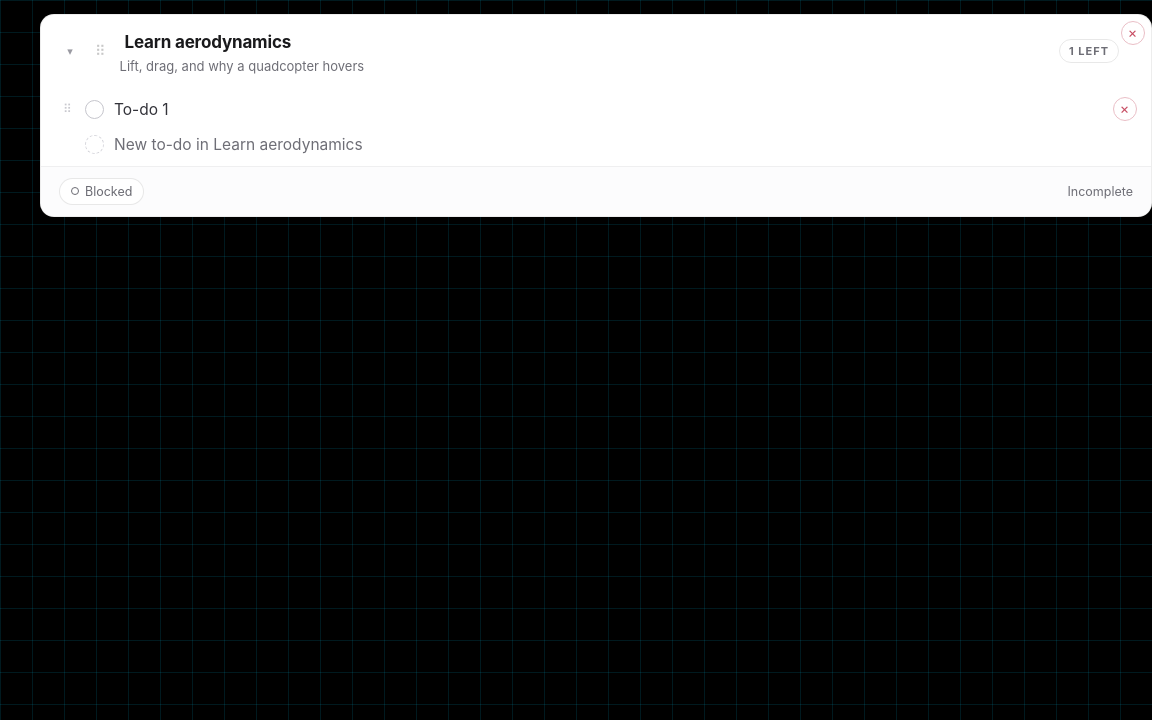
Test: SequenceCard › leaves the sequence alone when the confirmation is cancelled
Click the button named "Delete sequence “Learn aerodynamics”": (1133,33) [1121,21,1145,45]
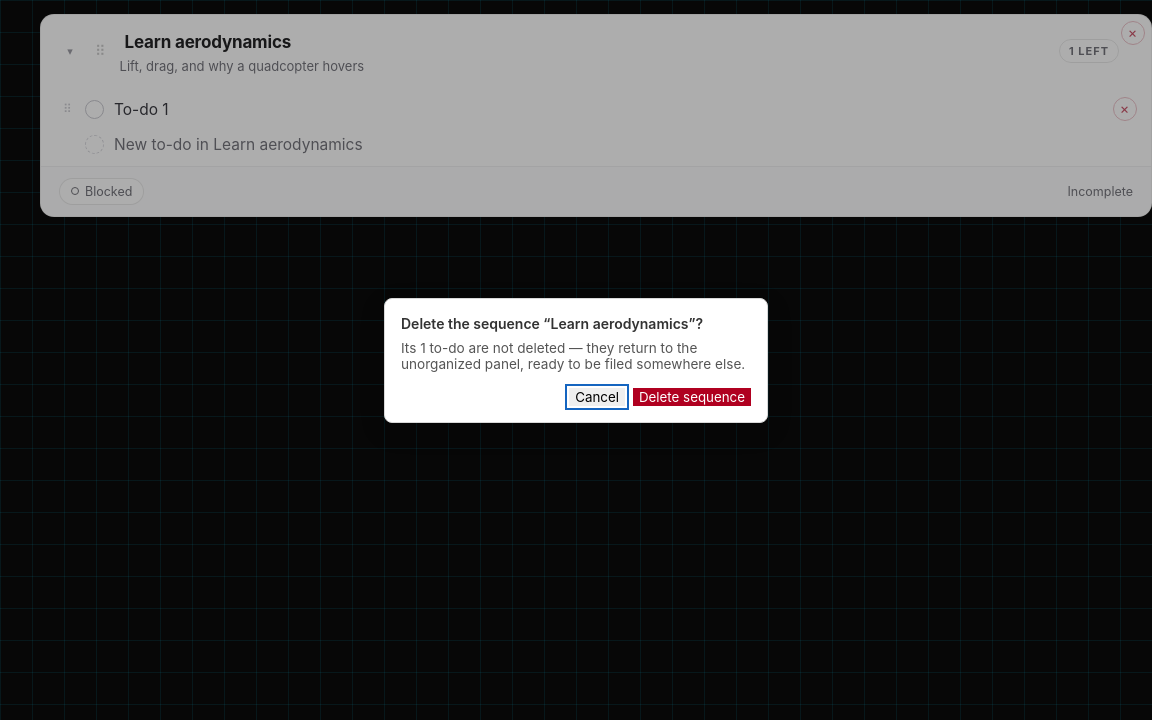
Click the button "Cancel": (597,396) [569,388,625,406]
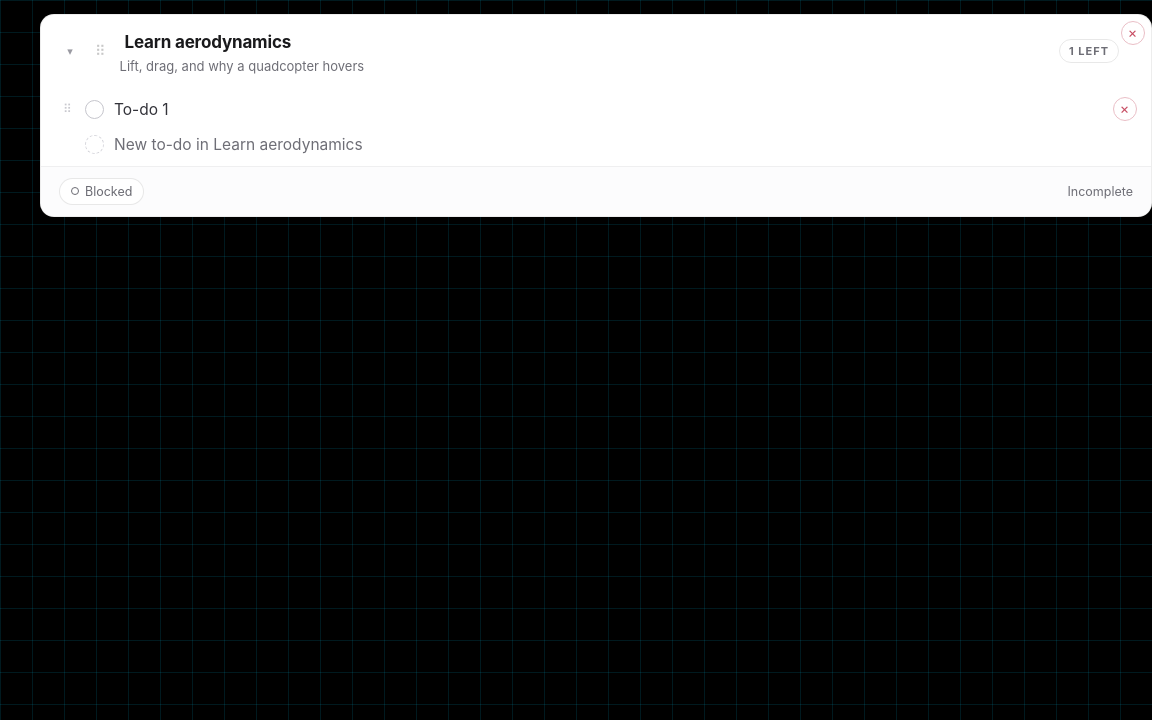
expect the dialog is gone: met
